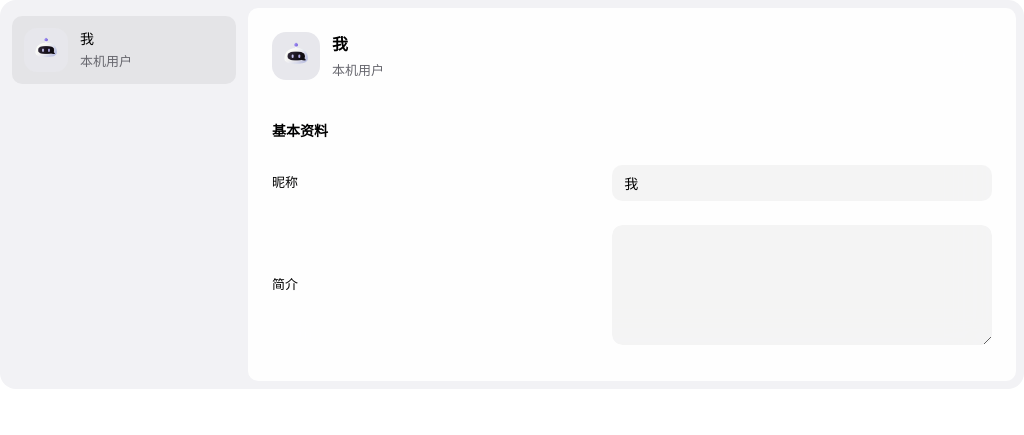
直接应用用户资料 › 昵称按中文 2、英文 1 计宽，九个中文不写入
Replace the text in the field labelled "昵称" with "九个中文昵称啊哈哈" at (802, 183), box [612,165,992,201]
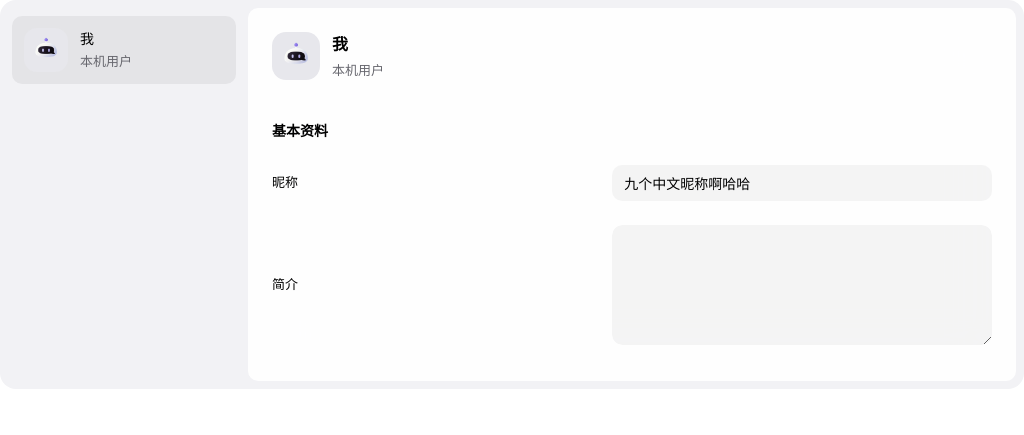
Leave the field labelled "昵称", box [612,165,992,201]
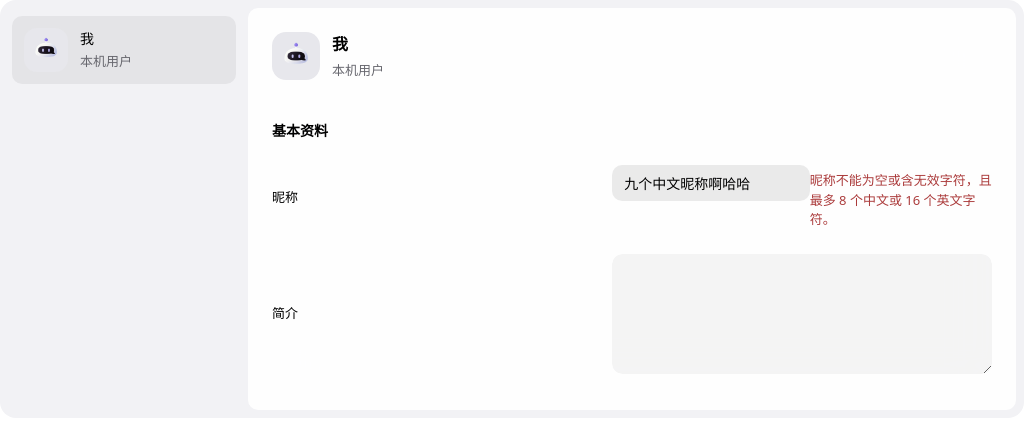
Expected: the message shows "最多 8 个中文", [810,171,992,228]
Replace the text in the field labelled "昵称" with "abcdefghijklmnop" at (711, 183), box [612,165,810,201]
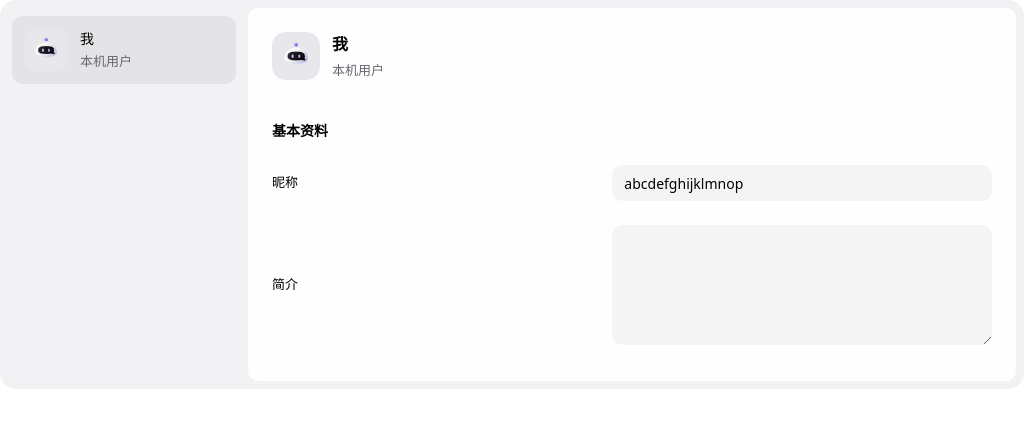
Leave the field labelled "昵称", box [612,165,992,201]
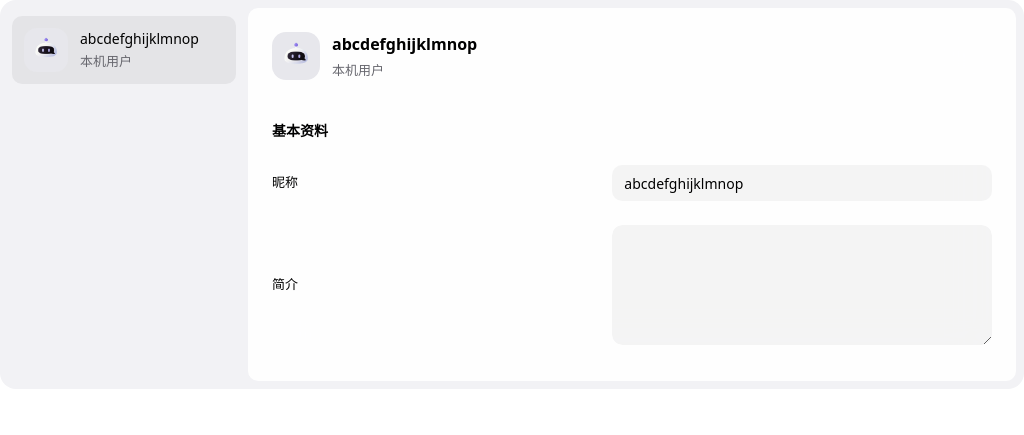
Expected: the text "abcdefghijklmnop" is shown, [80,29,199,48]
